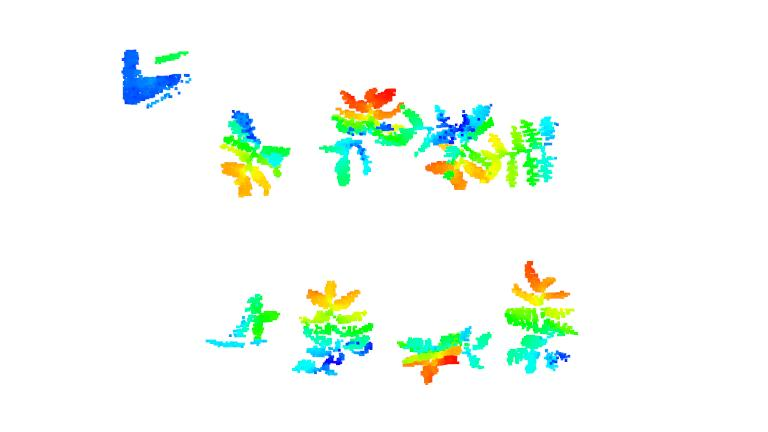chickpea: (315, 86, 414, 188), (502, 257, 577, 375), (288, 278, 378, 376), (412, 101, 495, 190), (217, 110, 291, 203), (479, 112, 565, 188), (393, 324, 491, 386), (204, 290, 278, 352)
